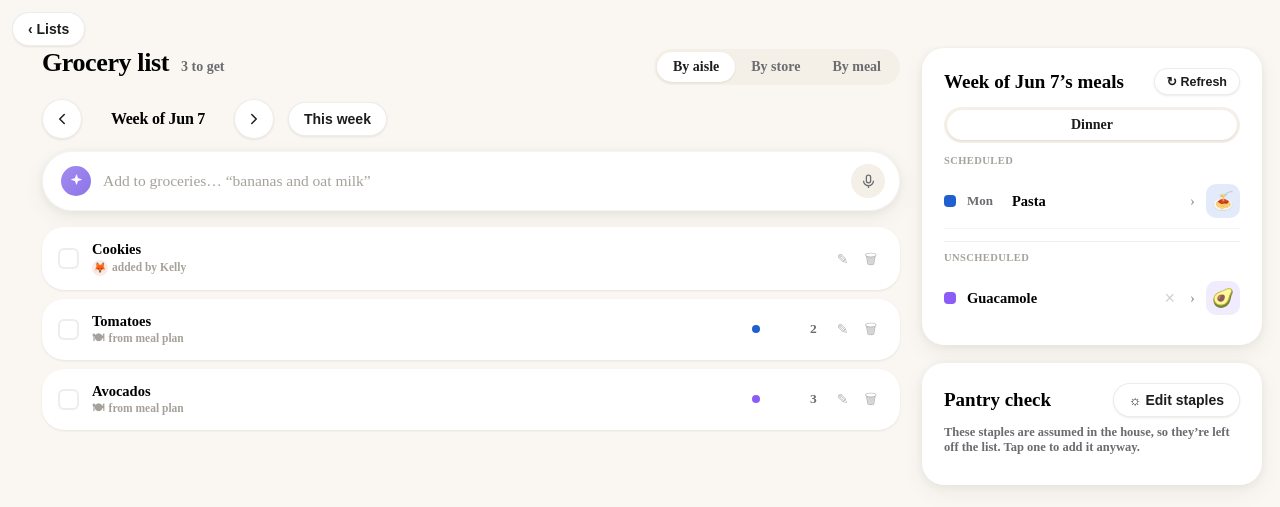
Test: GroceryBoard unscheduled recipes (By meal view) › groups off-plan recipe items under their own "unscheduled" section, not "Other items"
Expected: the text "Avocados" is shown, [92,383,150,399]
Click the button "By meal". click: click(857, 67)
box: [816,52,897,82]
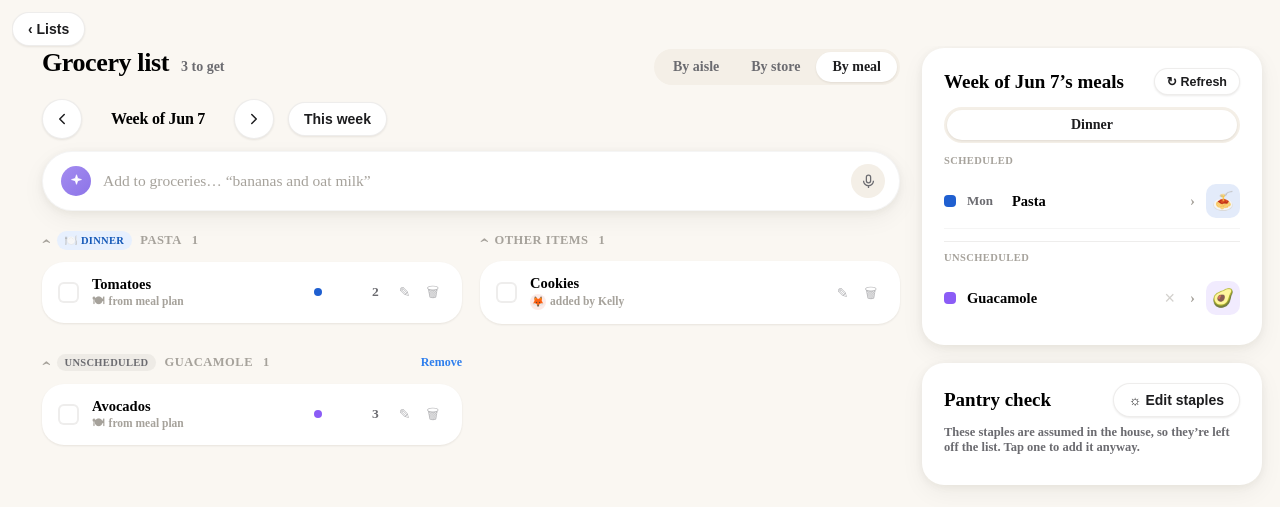
Result: the button "› Unscheduled Guacamole 1 Remove" is shown at [36,350,468,376]
Result: the text "Guacamole" shows "Avocados" at [92,398,150,414]
Result: the text "Other items" shows "Cookies" at [530,275,579,291]
